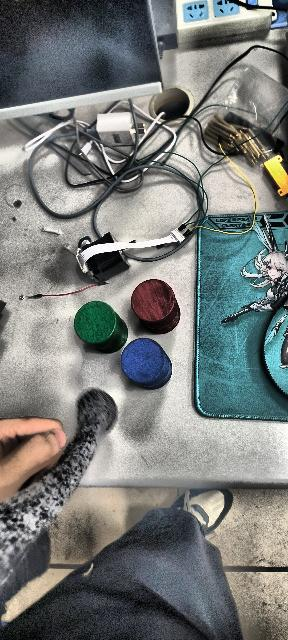blue: (120, 337, 172, 389)
green: (74, 300, 127, 355)
red: (133, 278, 178, 332)
